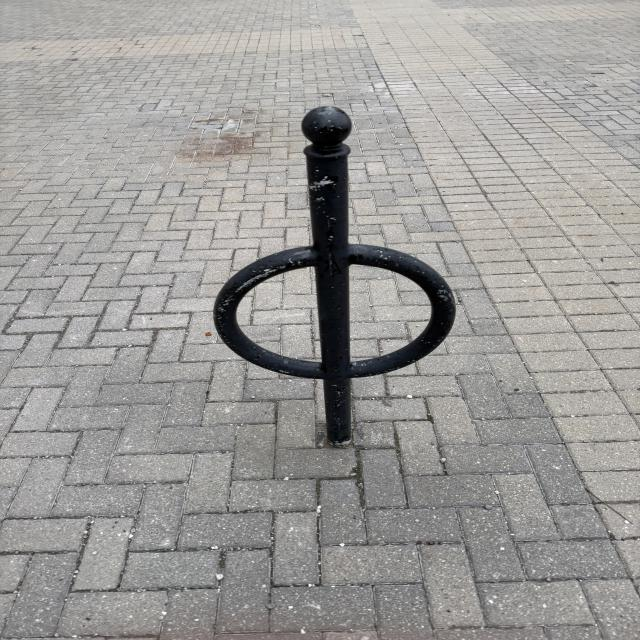Bicycle Rack: (212, 107, 458, 447)
